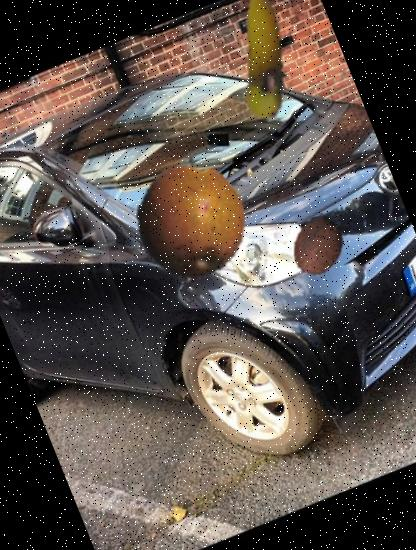Banana: (182, 0, 351, 139)
Cocos: (278, 207, 357, 286)
Granadilla: (106, 128, 277, 300)
